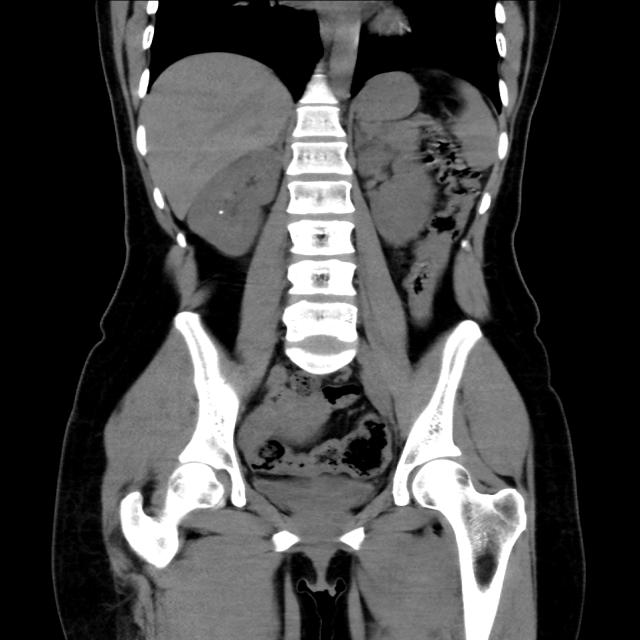kidneystone: (216, 206, 220, 210)
